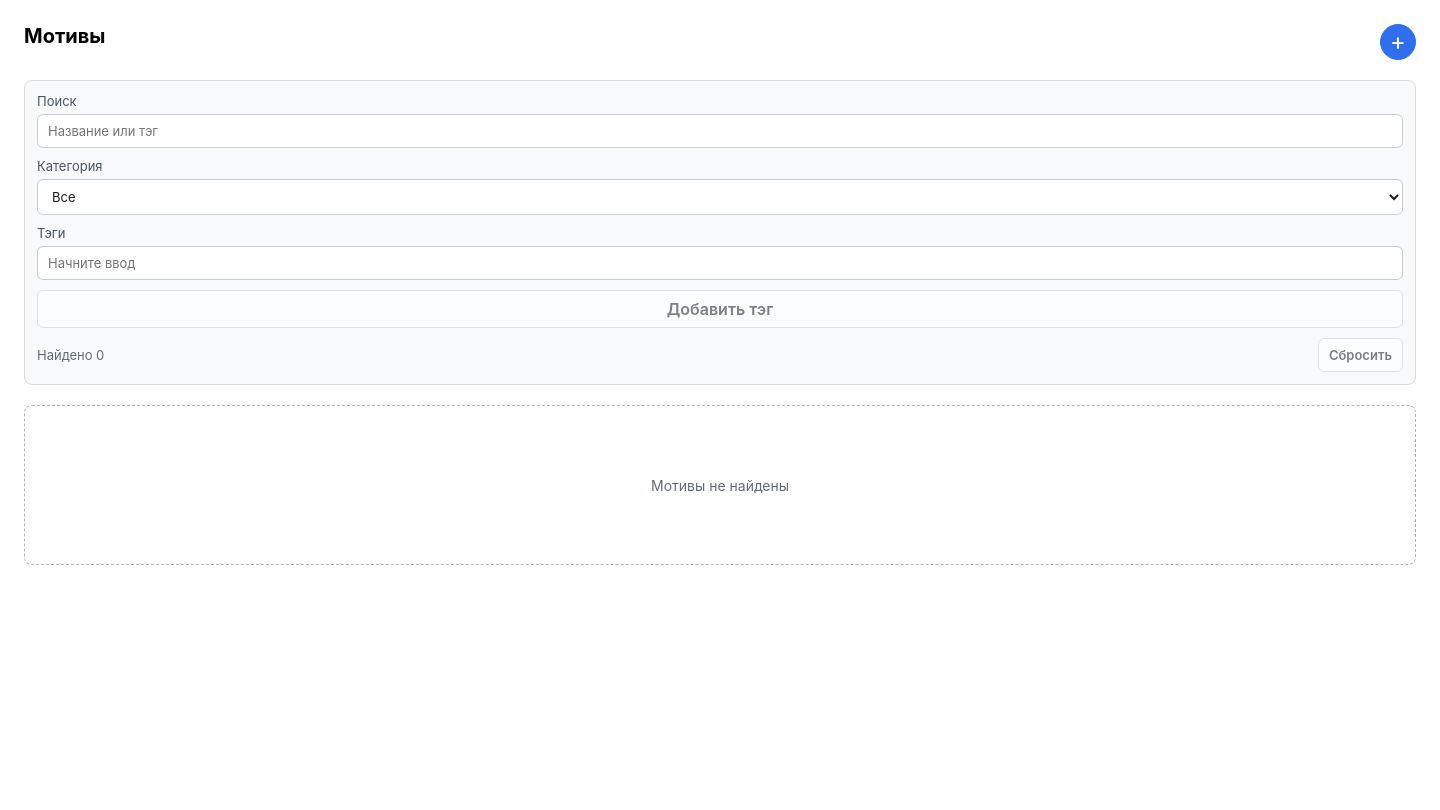
Test: pattern creation availability › hides import until configuration is loaded, then allows opening the form
The image size is (1440, 810).
expect the button "Добавить паттерн" is not shown: met
Click the button named "Добавить паттерн" at (1398, 42), box [1380,24,1416,60]
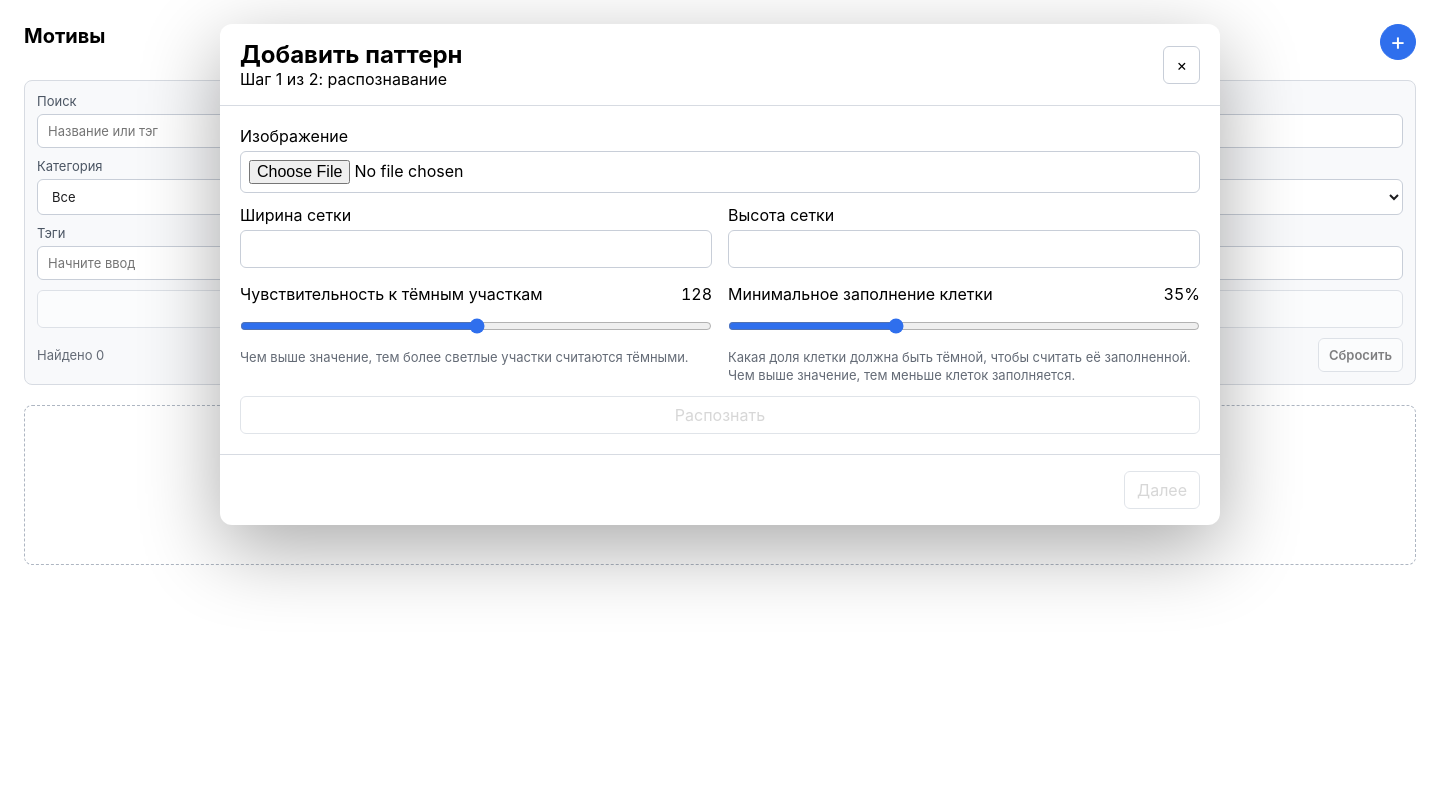
expect the dialog is shown: met, box [220,24,1220,525]
